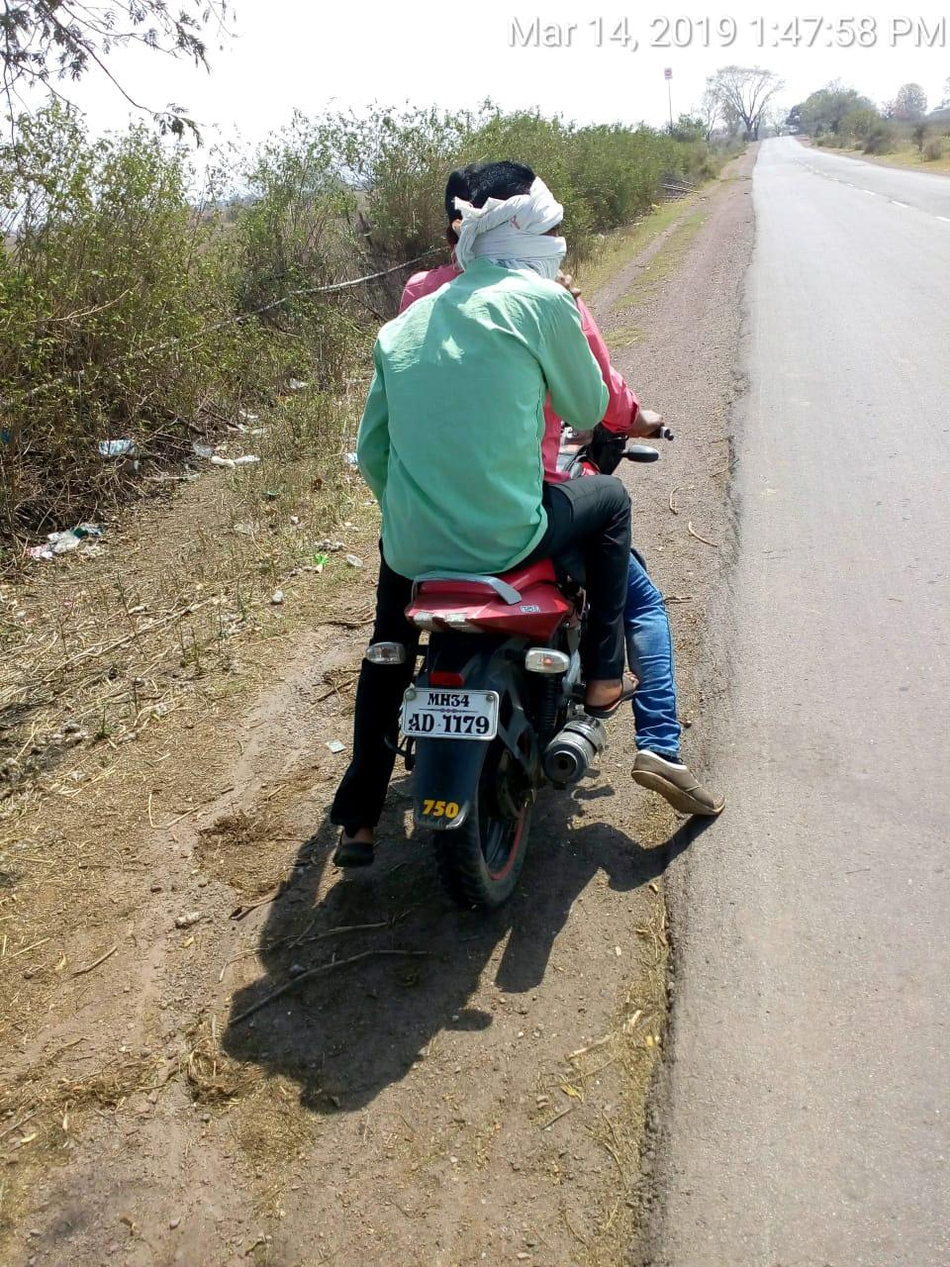plate: (393, 681, 503, 746)
